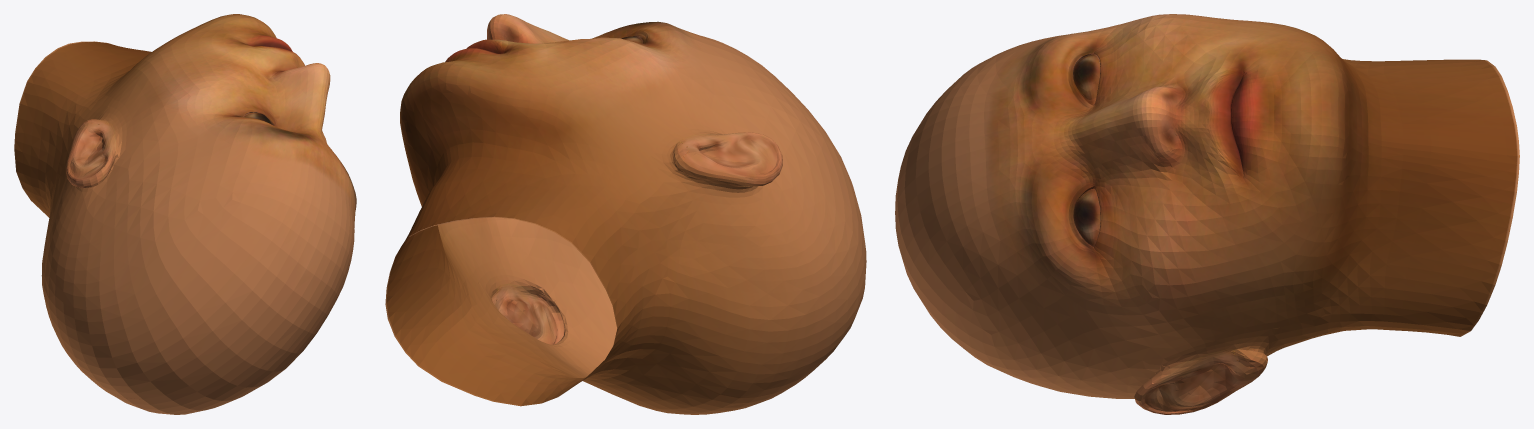
File: zds.obj
The picture shows the model from 3 angles, left to right: view 1: azimuth 30°, elevation 25°; view 2: azimuth 150°, elevation 25°; view 3: azimuth 270°, elevation 25°; orthographic projection. The views are drawn at different scales.
Visible parts, largest first — view 1: skin_hi; view 2: skin_hi; view 3: skin_hi, eyeR_hi, eyeL_hi.
Boxes of the visible parts, x1,y1,x2,y2 form: skin_hi: (14,14,356,414); skin_hi: (385,14,866,414); skin_hi: (895,14,1519,414); eyeR_hi: (1073,188,1100,246); eyeL_hi: (1073,53,1100,104).
Size of the model in its own units: 204 by 201 by 281.
Materials: 3 (3 with a texture image).
